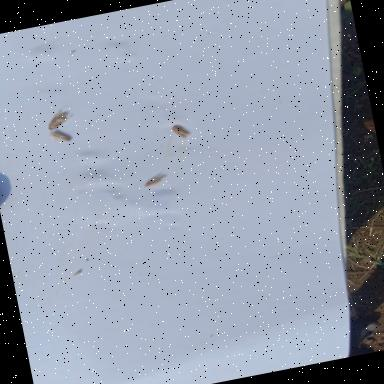pbw: (42, 110, 74, 136), (44, 126, 77, 149), (140, 168, 174, 190), (170, 122, 192, 146)
